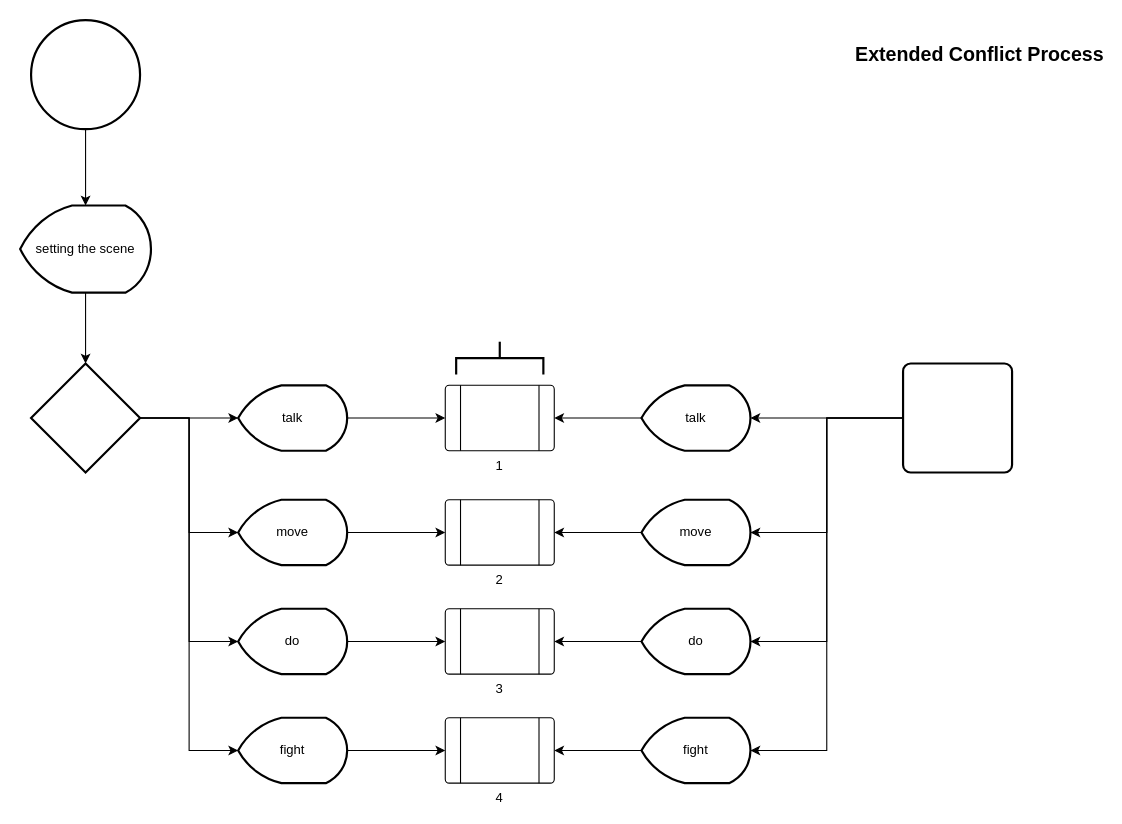
Image size: 1122x824. Some labels were removed from this diagram. The centre of each missing label's shape, as x and y in pixels:
conflict contested roll process: (x=499, y=357)
NPC intent: (x=957, y=417)
PC intent: (x=85, y=417)
start: (x=85, y=74)
